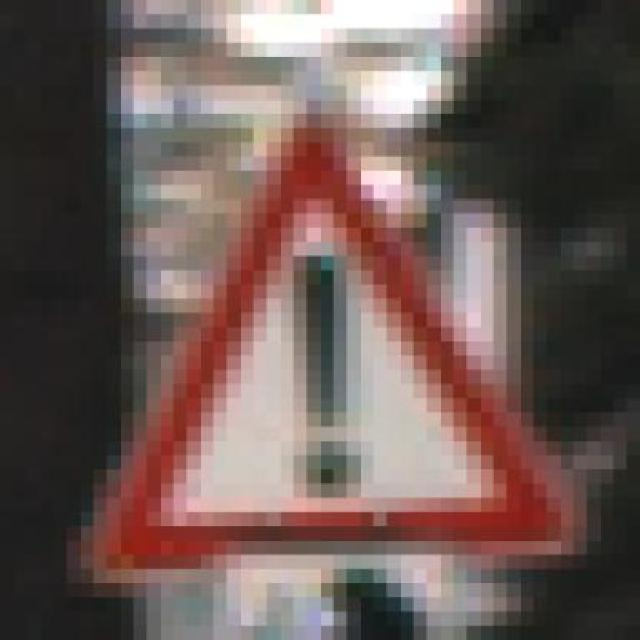Attention Please-: (66, 85, 614, 583)
